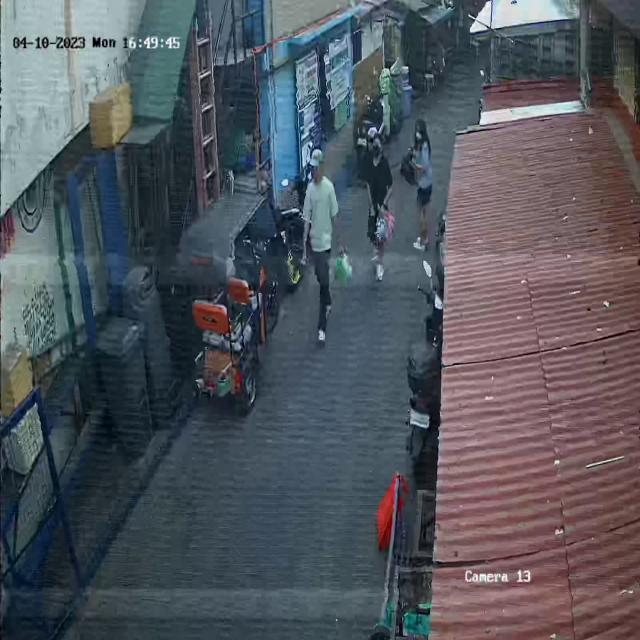garbage_dumping: (329, 243, 354, 289), (373, 206, 397, 248), (399, 148, 416, 187)
